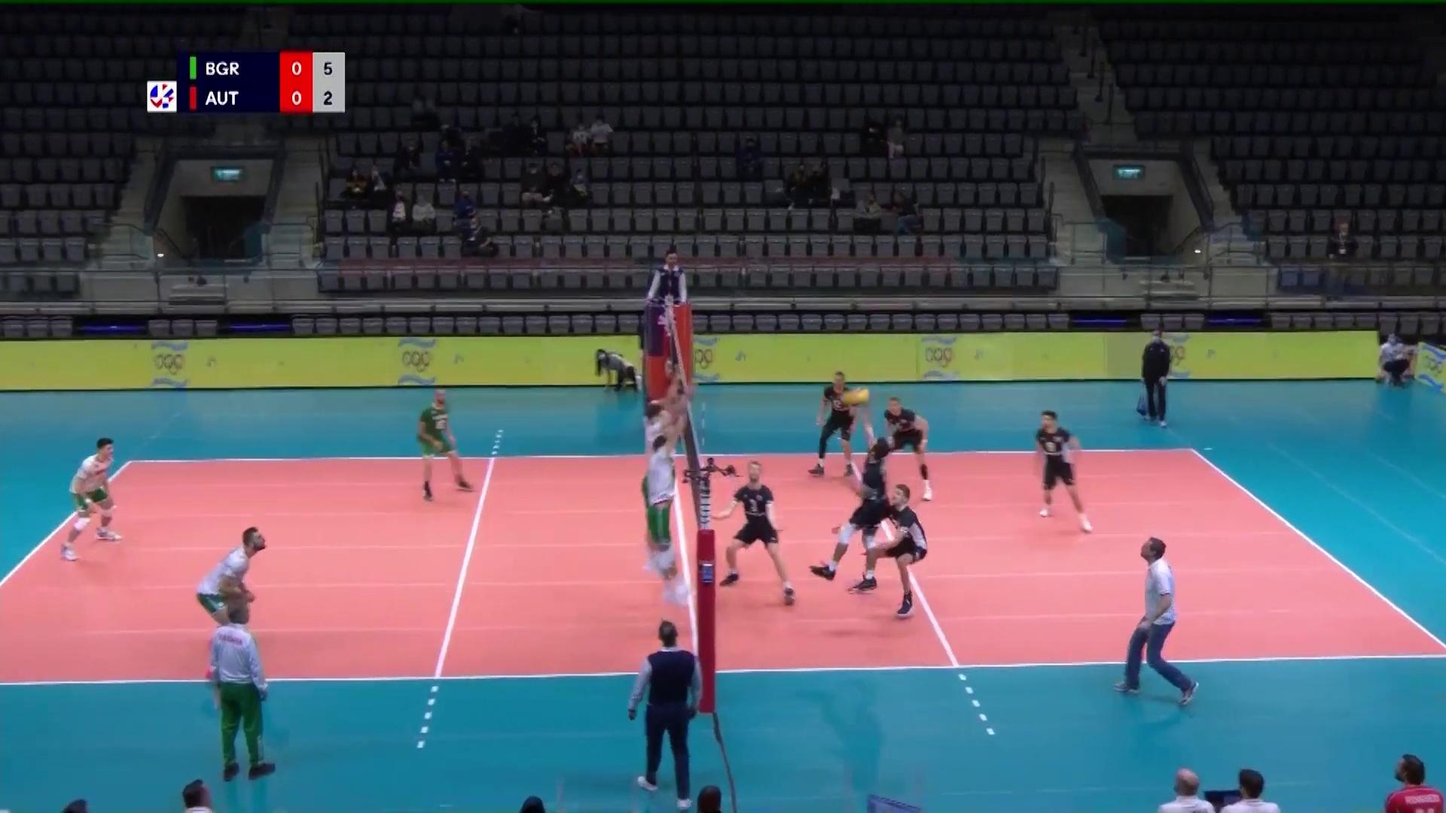ball: (842, 386, 869, 408)
